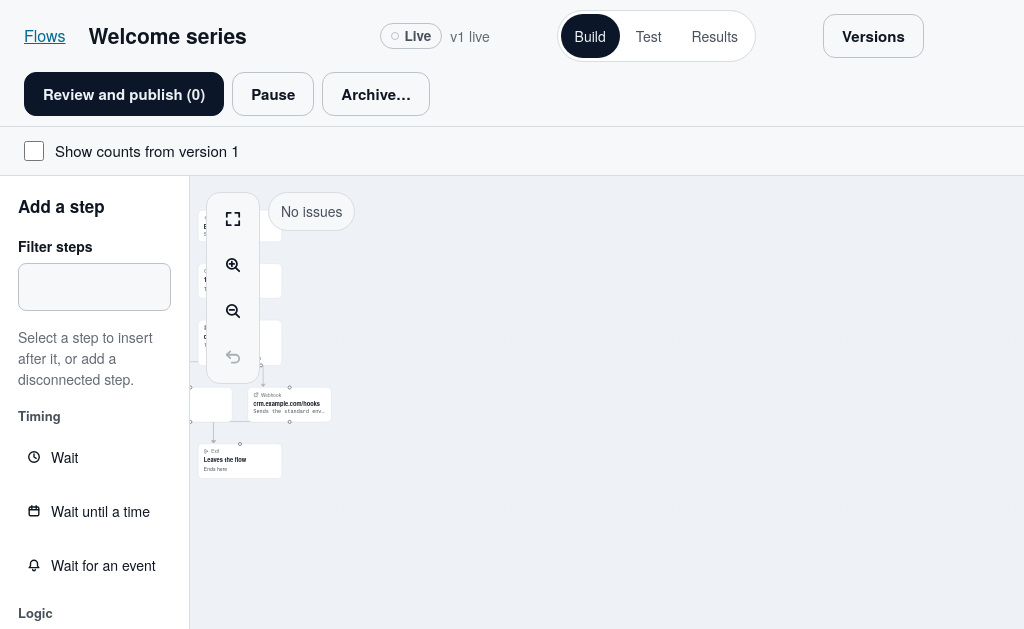
Test case: the entries per day on the flow results › shows an error with a retry that reads the series again, leaving the rest of the results
What coordinates should you click on to do the following:
click the link "Results"
I would click on:
 (715, 36)
Its box is left=692, top=26, right=738, bottom=46.
(page scrolled)
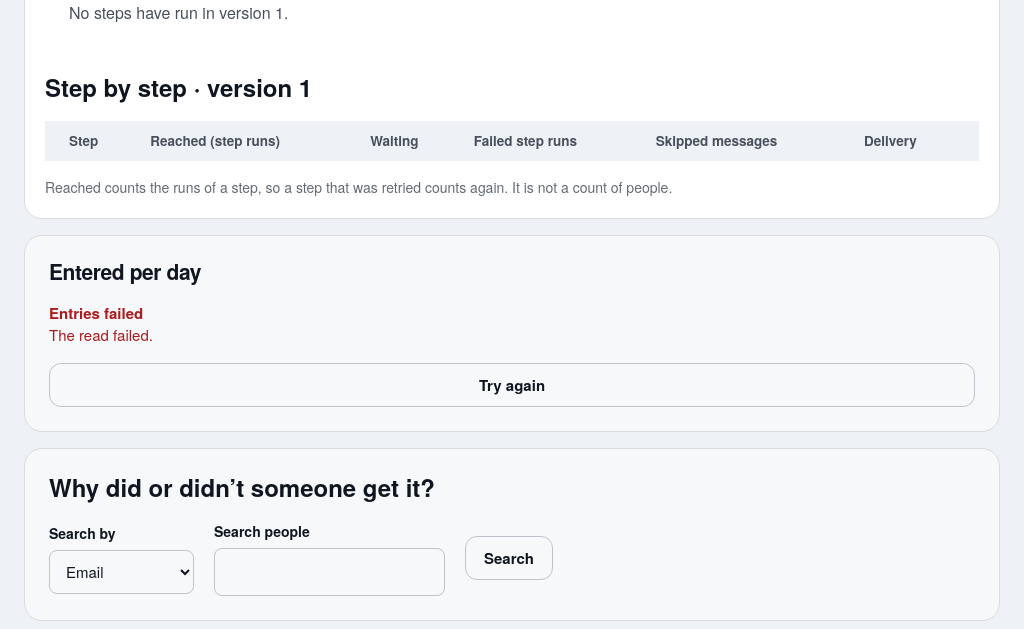
Expected: the text "Entries failed" is shown, left=49, top=302, right=143, bottom=324
What coordinates should you click on to do the following:
click the button "Try again"
I would click on:
 (512, 385)
Its box is left=49, top=363, right=975, bottom=407.
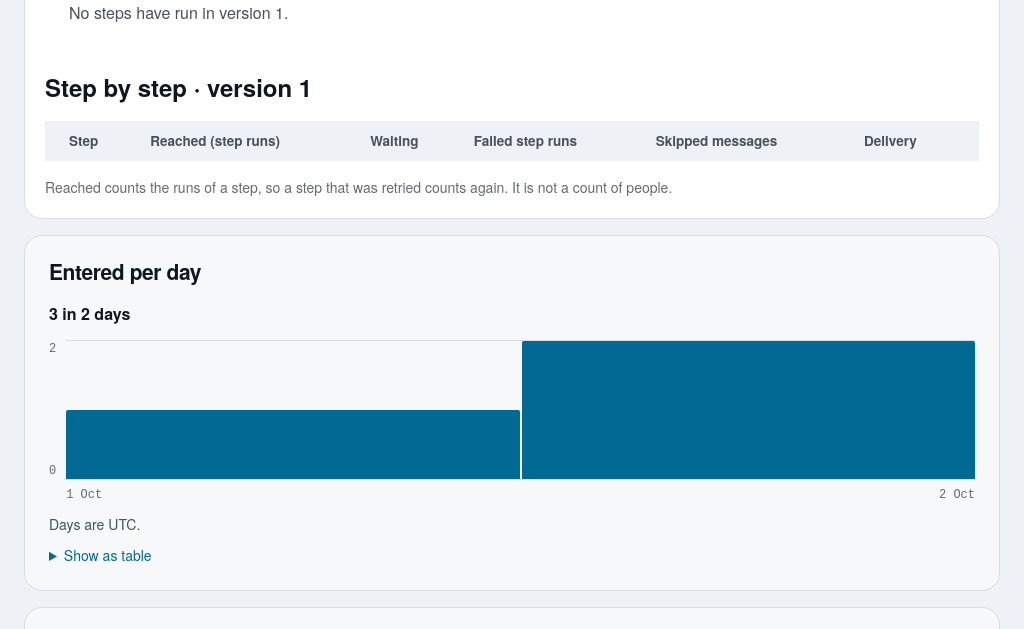
Expected: the picture is shown, left=49, top=340, right=975, bottom=504
